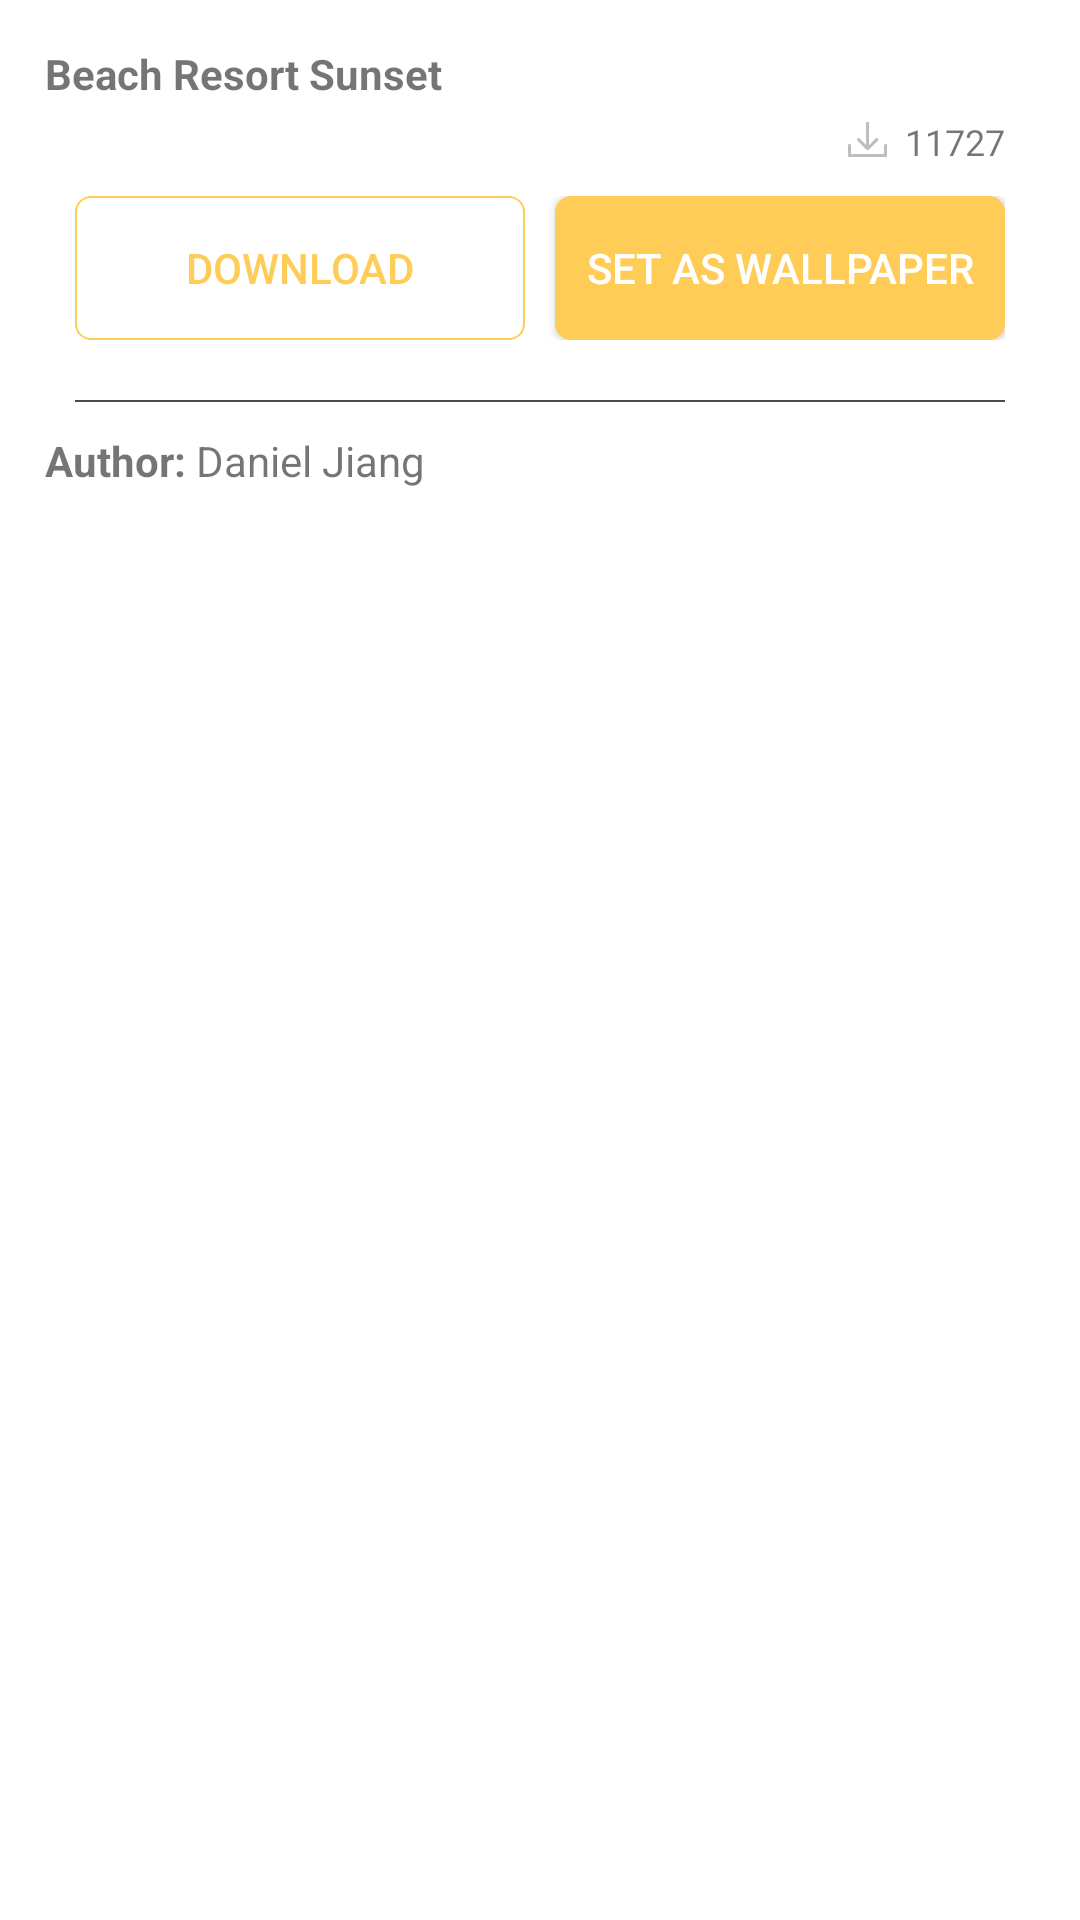

Icon click points for this 1080 × 1920 phone screenshot, format (x=x, y=y):
download: (x=867, y=139)
